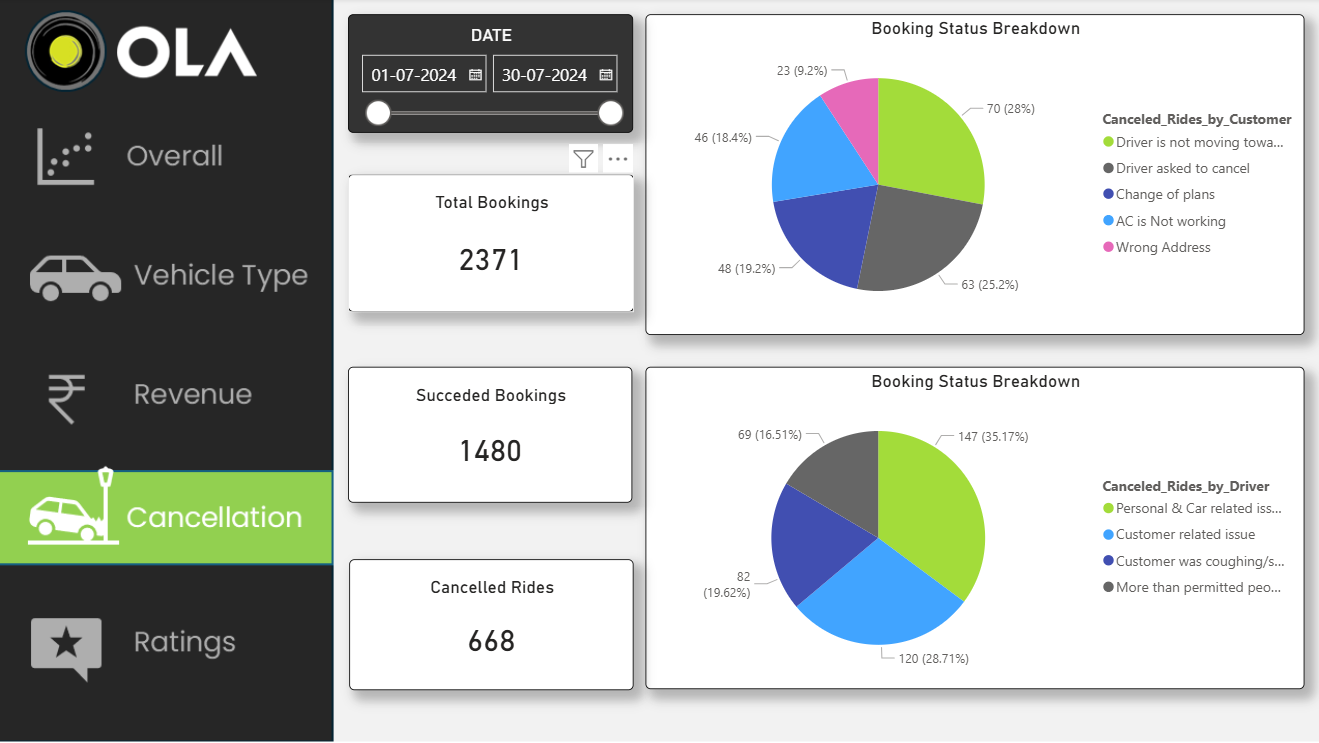

This screenshot's page, from the dashboard's own definition file:
{"tool":"powerbi","page":{"name":"Cancellation","canvas":[1280,720],"ordinal":3},"visuals":[{"type":"actionButton","box":[0,218.2,323.8,90.6],"z":0},{"type":"actionButton","box":[0,102.9,323.8,90.6],"z":1000},{"type":"actionButton","box":[0,336.2,323.8,90.6],"z":2000},{"type":"actionButton","box":[0,576.3,323.8,90.6],"z":3000},{"type":"pieChart","title":"Booking Status Breakdown","fields":{"Category":["Bookings-2000-Rows.Canceled_Rides_by_Customer"],"Y":["CountNonNull(Bookings-2000-Rows.Canceled_Rides_by_Customer)"]},"box":[625.4,15.5,636.3,309.6],"z":4000},{"type":"pieChart","title":"Booking Status Breakdown","fields":{"Category":["Bookings-2000-Rows.Canceled_Rides_by_Driver"],"Y":["CountNonNull(Bookings-2000-Rows.Canceled_Rides_by_Driver)"]},"box":[625.4,356.1,636.3,311.2],"z":5000},{"type":"slicer","title":"DATE","fields":{"Values":["Bookings-2000-Rows.Date"]},"box":[337.5,15.5,275.6,114.6],"z":6000},{"type":"card","title":"Total Bookings","fields":{"Values":["CountNonNull(Bookings-2000-Rows.Booking_ID)"]},"box":[337.8,169.7,276.4,132.5],"z":7000},{"type":"card","title":"Succeded Bookings","fields":{"Values":["CountNonNull(Bookings-2000-Rows.Booking_ID)"]},"box":[337.8,355.6,274.7,130.9],"z":8000},{"type":"card","title":"Cancelled Rides","fields":{"Values":["CountNonNull(Bookings-2000-Rows.Booking_ID)"]},"box":[339.4,541.4,274.7,126.1],"z":9000}]}

Visuals, with their boxes on the page's 1280x720 design canvas (x1, y1, x2, y2). These are canvas units, not pixel positions in the 1319x743 screenshot, which may show the page scaled, cropped or inside an application window:
actionButton: 0/218/324/309
actionButton: 0/103/324/194
actionButton: 0/336/324/427
actionButton: 0/576/324/667
"Booking Status Breakdown" pieChart: 625/16/1262/325
"Booking Status Breakdown" pieChart: 625/356/1262/667
"DATE" slicer: 338/16/613/130
"Total Bookings" card: 338/170/614/302
"Succeded Bookings" card: 338/356/612/486
"Cancelled Rides" card: 339/541/614/668
